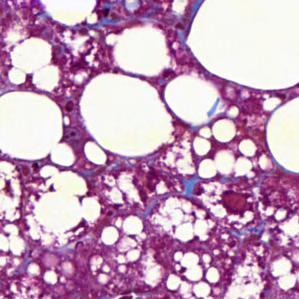steatosis: (77, 76, 174, 158), (103, 28, 174, 76)
